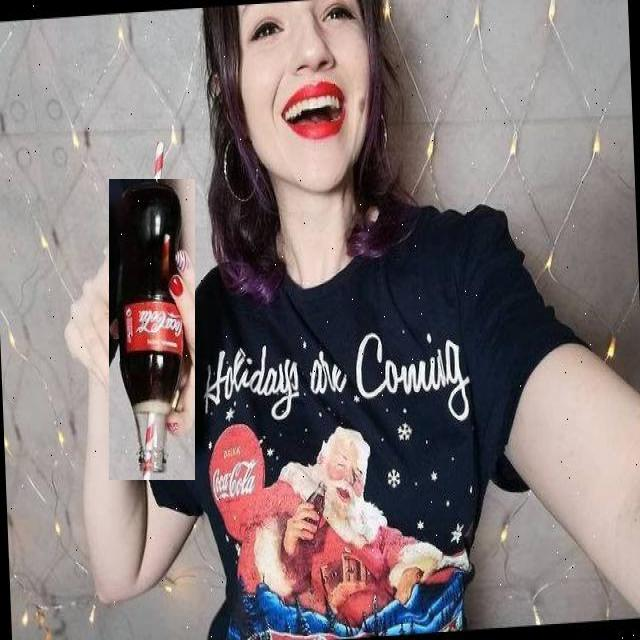coca-cola: (109, 179, 195, 480)
